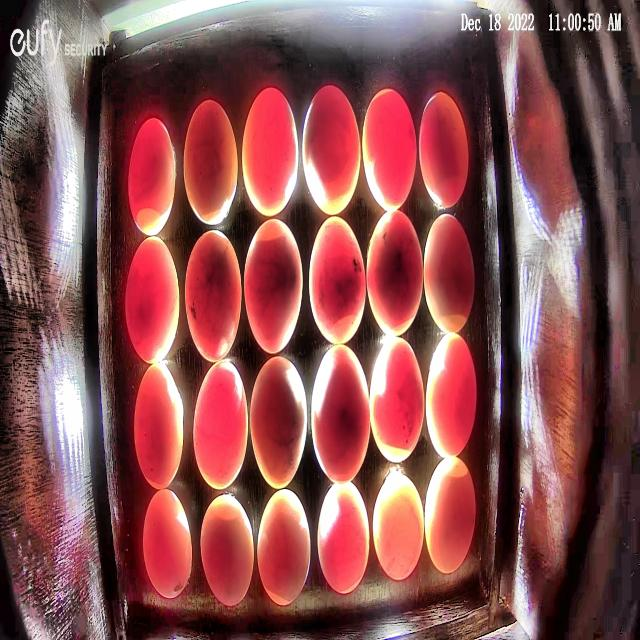DE: (424, 455, 476, 575), (372, 473, 425, 581)
FE: (242, 218, 304, 355), (311, 344, 371, 484), (250, 354, 308, 490), (302, 83, 361, 215), (308, 215, 367, 345), (242, 86, 299, 218), (185, 230, 242, 362), (366, 208, 424, 336), (124, 237, 181, 365), (192, 361, 248, 491), (369, 336, 426, 463), (362, 87, 417, 213), (184, 98, 238, 225), (256, 487, 311, 607), (133, 361, 184, 490), (425, 334, 476, 459), (424, 212, 476, 334), (200, 493, 254, 608), (126, 116, 176, 237), (317, 479, 370, 593), (419, 91, 469, 208), (142, 487, 192, 599)
